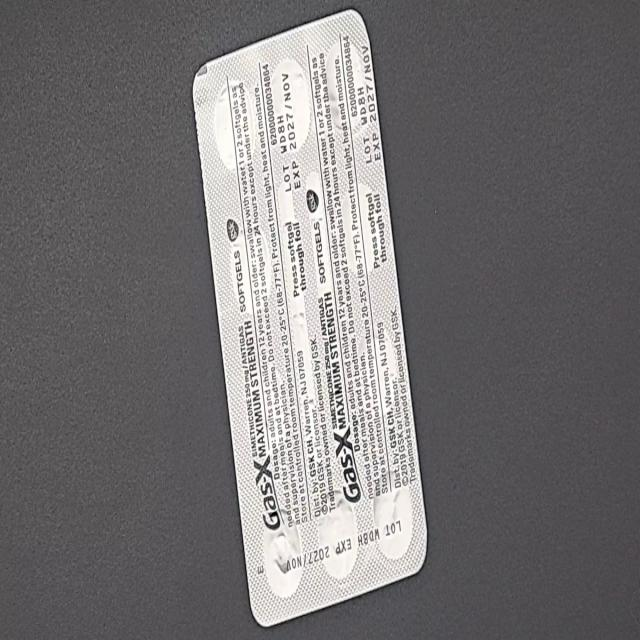no defect: (9, 20, 34, 76)
